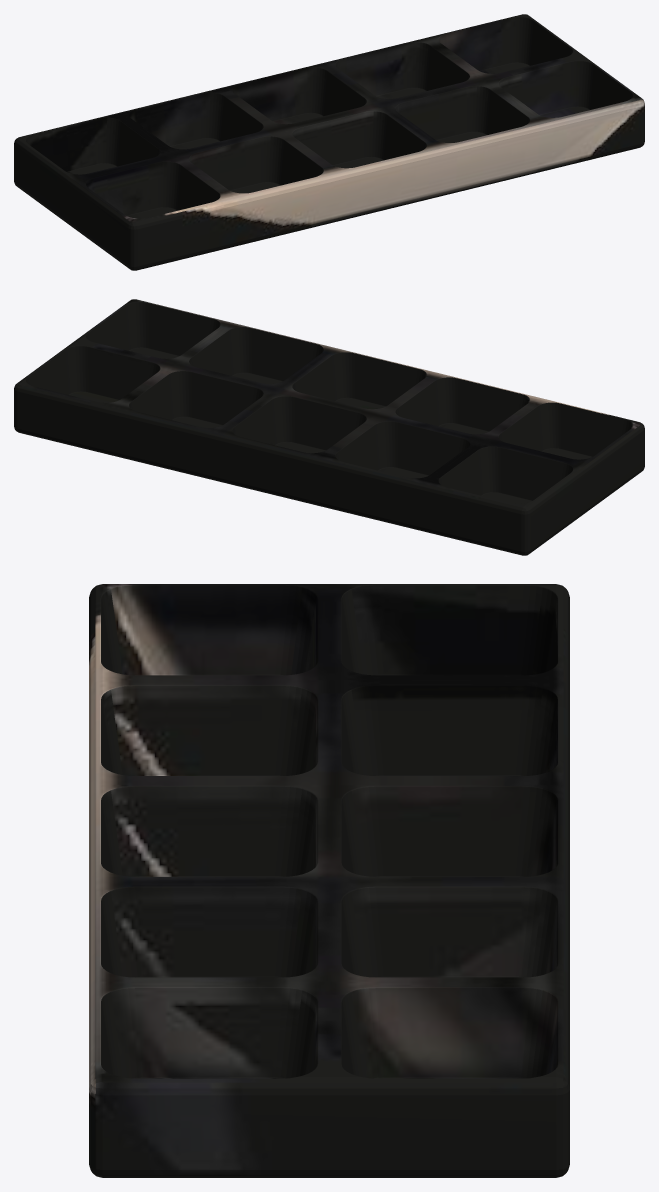
The picture shows the model from 3 angles, top to bottom: view 1: azimuth 30°, elevation 25°; view 2: azimuth 150°, elevation 25°; view 3: azimuth 270°, elevation 25°; orthographic projection. The views are drawn at different scales.
Visible parts, largest first — view 1: molded tray with rounded wells; view 2: molded tray with rounded wells; view 3: molded tray with rounded wells.
Part boxes in pixels (bbox=[...]): molded tray with rounded wells: bbox=[14, 14, 644, 270]; molded tray with rounded wells: bbox=[14, 299, 644, 555]; molded tray with rounded wells: bbox=[89, 584, 569, 1177].
Bounding box in the file's own units: 0.26 × 0.024 × 0.105.
1 material, 1 textured.
